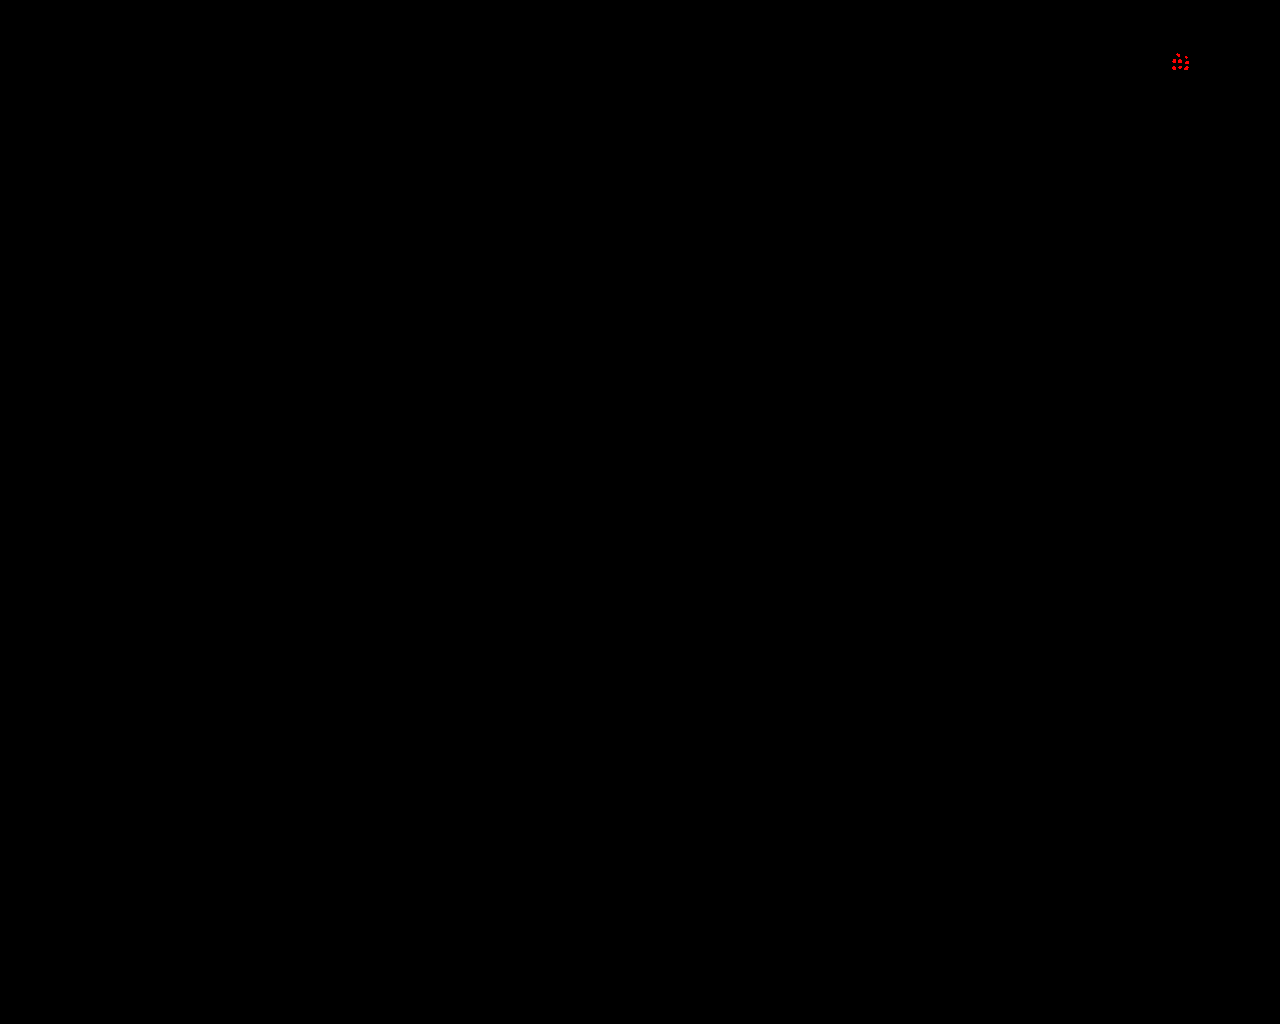Target: (1184, 66, 1189, 70), (1176, 53, 1180, 57), (1178, 59, 1182, 63), (1172, 59, 1176, 63), (1185, 61, 1189, 64), (1172, 66, 1176, 70), (1178, 66, 1182, 69), (1185, 56, 1188, 59)
